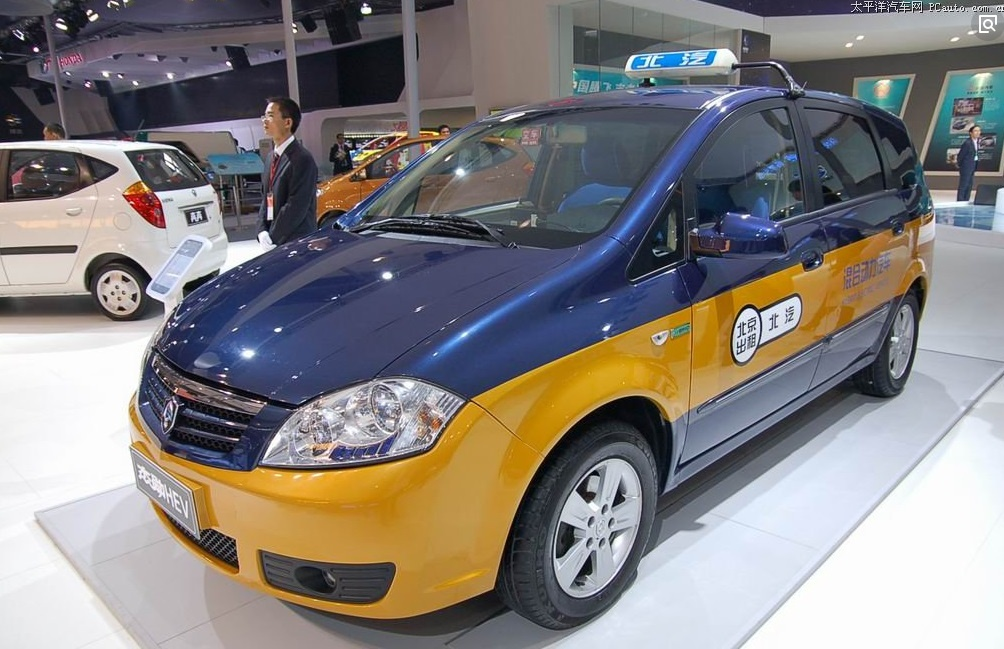taxi: (139, 46, 945, 621)
